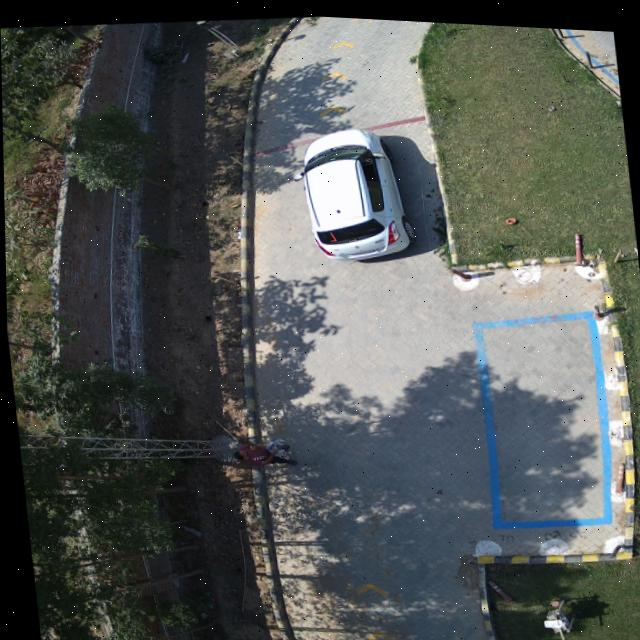car: (294, 123, 413, 256)
